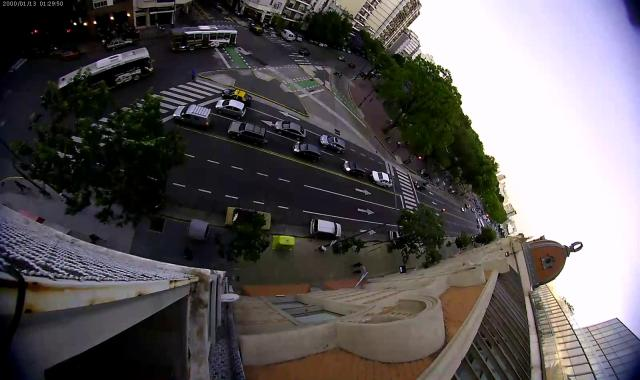bus: (58, 47, 155, 103), (170, 26, 238, 52)
car: (225, 206, 271, 232), (228, 121, 266, 147), (173, 105, 213, 128), (309, 218, 342, 238), (216, 99, 247, 119), (275, 121, 307, 140), (293, 142, 322, 161), (320, 134, 346, 154), (222, 88, 252, 103), (370, 170, 393, 189), (343, 160, 365, 179), (108, 37, 134, 51), (61, 48, 81, 60), (280, 30, 294, 41), (249, 26, 263, 36), (414, 181, 426, 191), (299, 48, 312, 57), (389, 231, 399, 238), (338, 55, 347, 62), (296, 34, 303, 42), (348, 62, 356, 68), (461, 207, 466, 212), (465, 203, 470, 208), (471, 208, 476, 212), (477, 225, 480, 228)
